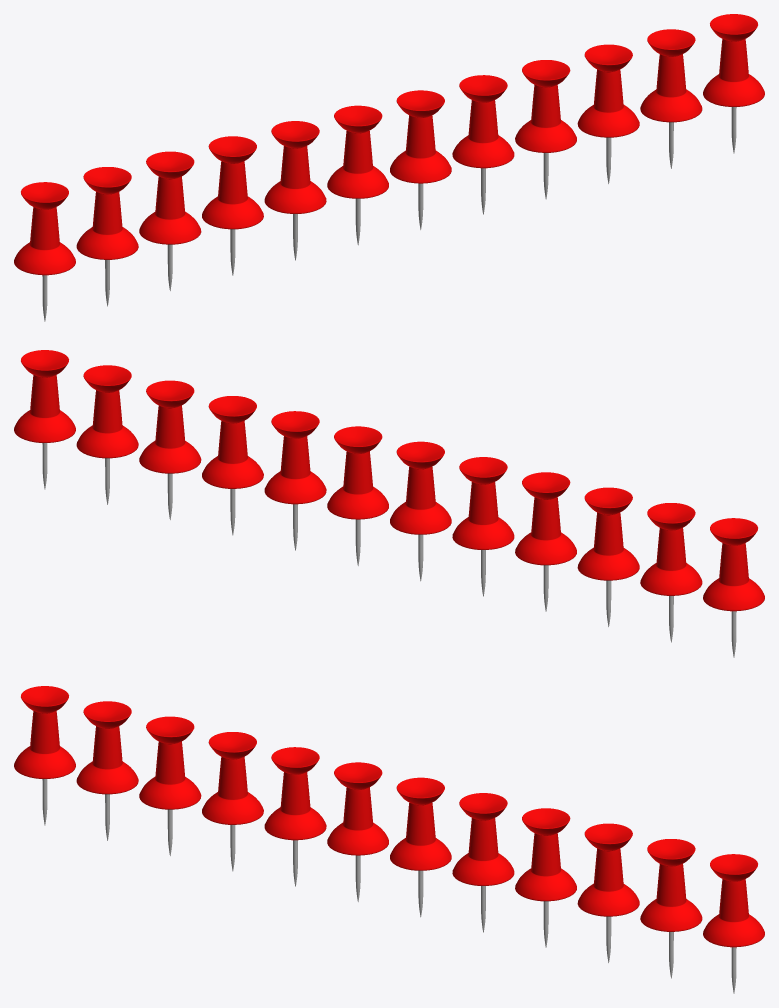
Rendered from push-pins-1-high-res.fbx.
3 views of the same model, one above another, from view 1: azimuth 30°, elevation 25°; view 2: azimuth 150°, elevation 25°; view 3: azimuth 330°, elevation 25° (orthographic).
Parts seen in each view (by area): view 1: pushpin_plastic_blue_1, pushpin_plastic_black_1, pushpin_plastic_red_1, pushpin_plastic_pink_1, pushpin_plastic_green_1, pushpin_plastic_clear_1, pushpin_plastic_teal_1, pushpin_plastic_yellow_1, pushpin_plastic_cyan_1, pushpin_plastic_orange_1, pushpin_plastic_purple_1, pushpin_plastic_gray_1; view 2: pushpin_plastic_blue_1, pushpin_plastic_black_1, pushpin_plastic_red_1, pushpin_plastic_pink_1, pushpin_plastic_green_1, pushpin_plastic_clear_1, pushpin_plastic_teal_1, pushpin_plastic_yellow_1, pushpin_plastic_cyan_1, pushpin_plastic_orange_1, pushpin_plastic_purple_1, pushpin_plastic_gray_1; view 3: pushpin_plastic_teal_1, pushpin_plastic_red_1, pushpin_plastic_black_1, pushpin_plastic_green_1, pushpin_plastic_pink_1, pushpin_plastic_clear_1, pushpin_plastic_blue_1, pushpin_plastic_yellow_1, pushpin_plastic_gray_1, pushpin_plastic_purple_1, pushpin_plastic_cyan_1, pushpin_plastic_orange_1.
Boxes of the visible parts, left/top/right/bottom form: pushpin_plastic_blue_1: left=390, top=90, right=451, bottom=229; pushpin_plastic_black_1: left=14, top=182, right=75, bottom=321; pushpin_plastic_red_1: left=703, top=14, right=764, bottom=153; pushpin_plastic_pink_1: left=202, top=136, right=263, bottom=275; pushpin_plastic_green_1: left=515, top=60, right=576, bottom=199; pushpin_plastic_clear_1: left=139, top=151, right=201, bottom=290; pushpin_plastic_teal_1: left=327, top=105, right=388, bottom=245; pushpin_plastic_yellow_1: left=577, top=44, right=639, bottom=183; pushpin_plastic_cyan_1: left=452, top=75, right=514, bottom=214; pushpin_plastic_orange_1: left=640, top=29, right=702, bottom=168; pushpin_plastic_purple_1: left=264, top=121, right=326, bottom=260; pushpin_plastic_gray_1: left=76, top=167, right=138, bottom=306; pushpin_plastic_blue_1: left=327, top=426, right=388, bottom=565; pushpin_plastic_black_1: left=703, top=518, right=764, bottom=657; pushpin_plastic_red_1: left=14, top=350, right=75, bottom=489; pushpin_plastic_pink_1: left=515, top=472, right=576, bottom=611; pushpin_plastic_green_1: left=202, top=396, right=263, bottom=535; pushpin_plastic_clear_1: left=577, top=487, right=639, bottom=626; pushpin_plastic_teal_1: left=390, top=441, right=451, bottom=581; pushpin_plastic_yellow_1: left=139, top=380, right=201, bottom=519; pushpin_plastic_cyan_1: left=264, top=411, right=326, bottom=550; pushpin_plastic_orange_1: left=76, top=365, right=138, bottom=504; pushpin_plastic_purple_1: left=452, top=457, right=514, bottom=596; pushpin_plastic_gray_1: left=640, top=503, right=702, bottom=642; pushpin_plastic_teal_1: left=327, top=762, right=388, bottom=901; pushpin_plastic_red_1: left=703, top=854, right=764, bottom=993; pushpin_plastic_black_1: left=14, top=686, right=75, bottom=825; pushpin_plastic_green_1: left=515, top=808, right=576, bottom=947; pushpin_plastic_pink_1: left=202, top=732, right=263, bottom=871; pushpin_plastic_clear_1: left=139, top=716, right=201, bottom=855; pushpin_plastic_blue_1: left=390, top=777, right=451, bottom=917; pushpin_plastic_yellow_1: left=577, top=823, right=639, bottom=962; pushpin_plastic_gray_1: left=76, top=701, right=138, bottom=840; pushpin_plastic_purple_1: left=264, top=747, right=326, bottom=886; pushpin_plastic_cyan_1: left=452, top=793, right=514, bottom=932; pushpin_plastic_orange_1: left=640, top=839, right=702, bottom=978.
Size of the model in its own units: 47.44 by 7.92 by 3.44.
